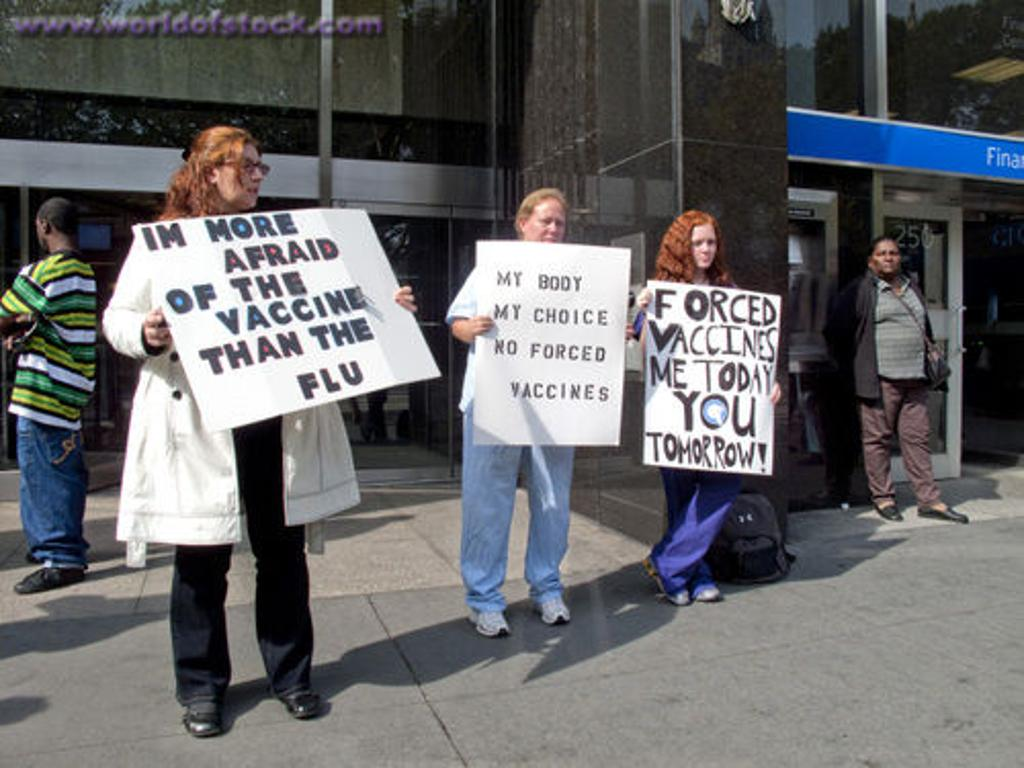face: (218, 142, 263, 207), (529, 197, 564, 247), (689, 223, 716, 267), (871, 240, 897, 272), (36, 216, 47, 249)
